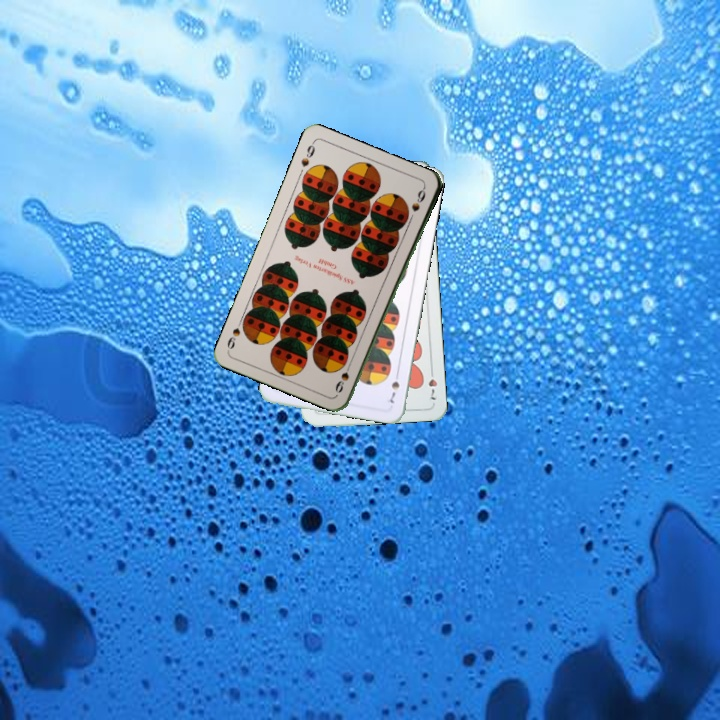H7: (425, 364, 440, 402)
S7: (386, 367, 402, 406)
S9: (332, 357, 355, 395), (297, 138, 317, 169)
